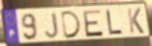9: (21, 13, 40, 42)
D: (60, 10, 83, 40)
E: (82, 8, 105, 38)
J: (44, 12, 60, 40)
K: (126, 8, 145, 35)
L: (105, 9, 124, 36)
